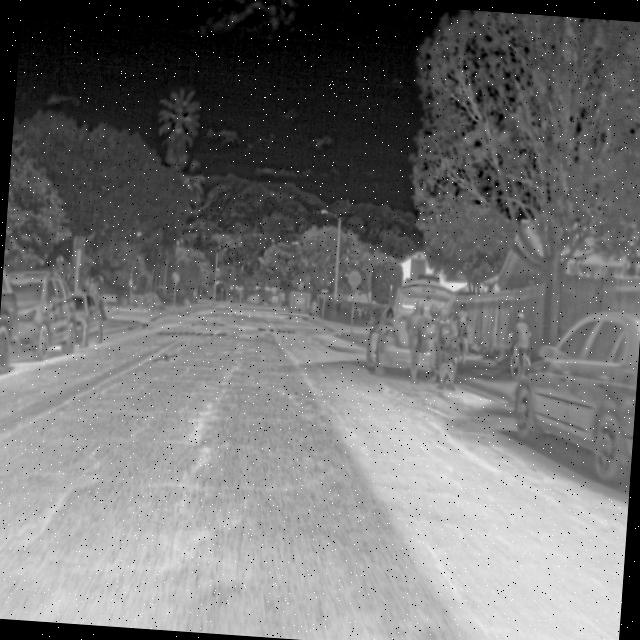Pedestrian: (428, 307, 463, 393), (500, 306, 537, 382), (400, 295, 430, 385), (450, 299, 476, 370)
Vehicle: (504, 301, 640, 486), (360, 276, 461, 384), (0, 263, 82, 369), (284, 288, 311, 322)
